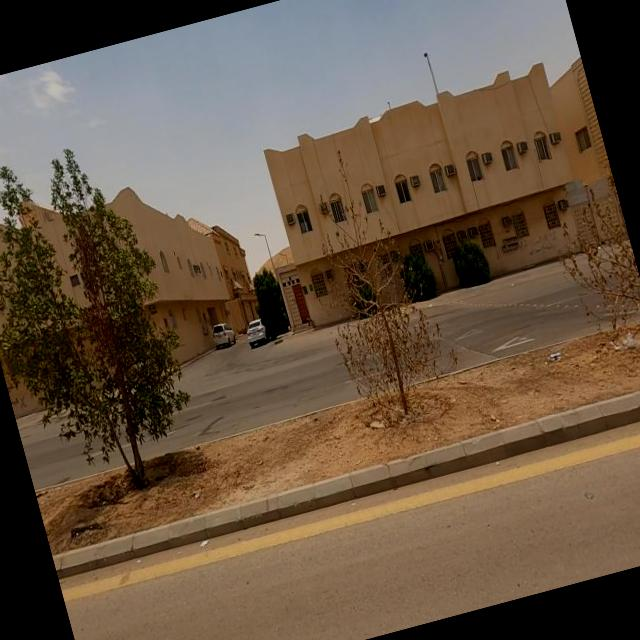debris: (508, 307, 600, 408), (164, 452, 234, 532), (166, 496, 233, 578), (581, 300, 640, 380)
